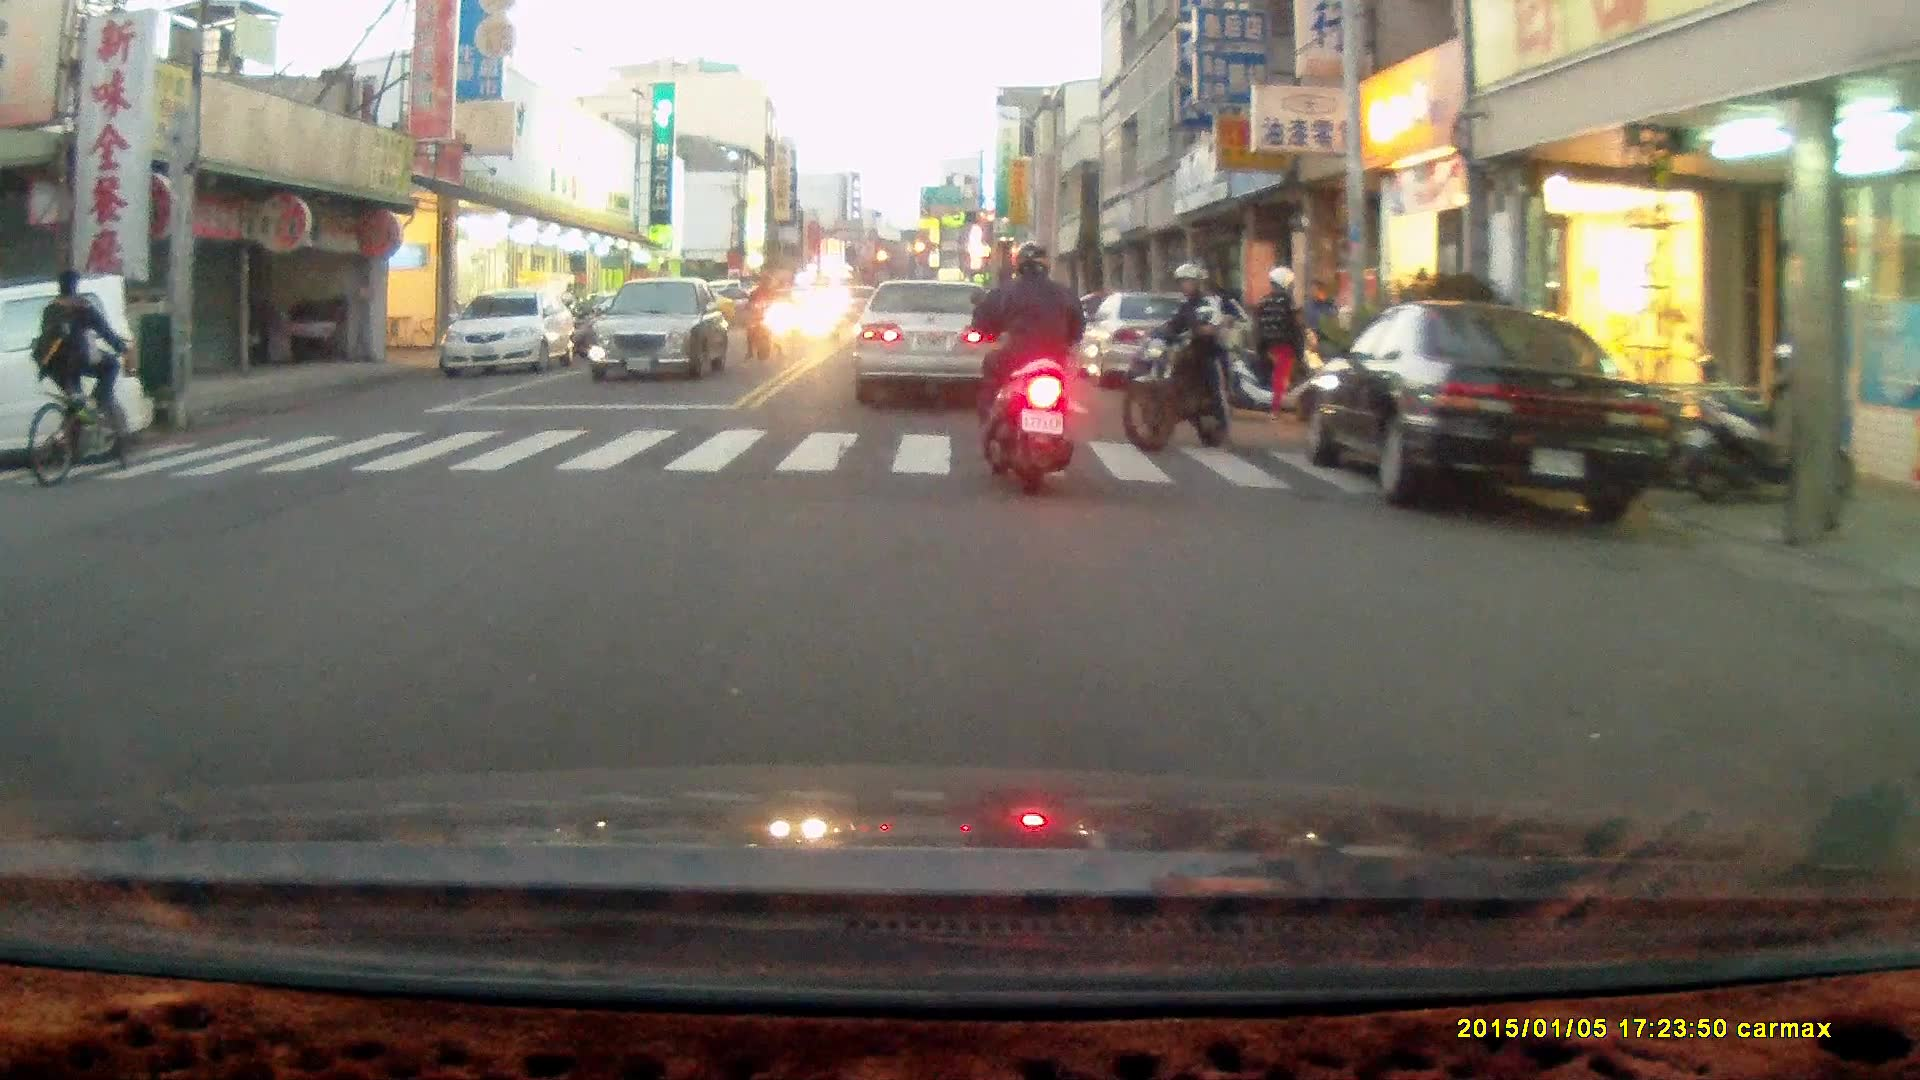pedestrian: (1259, 265, 1304, 426)
rider: (967, 239, 1088, 498), (1117, 260, 1259, 448), (21, 272, 127, 497), (738, 273, 781, 357)
vehicle: (1308, 303, 1672, 525), (1, 270, 157, 466), (851, 278, 1008, 408), (1076, 292, 1235, 393), (589, 278, 734, 387), (440, 288, 576, 376)
